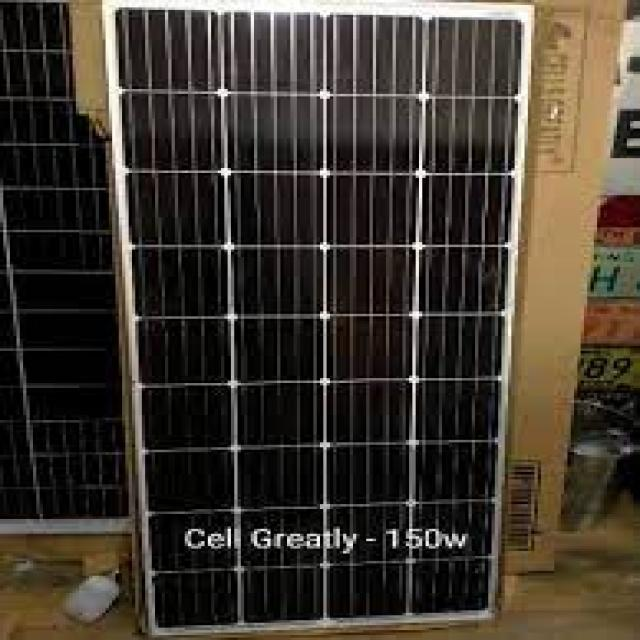Normal Solar Panel: (107, 0, 538, 631)
